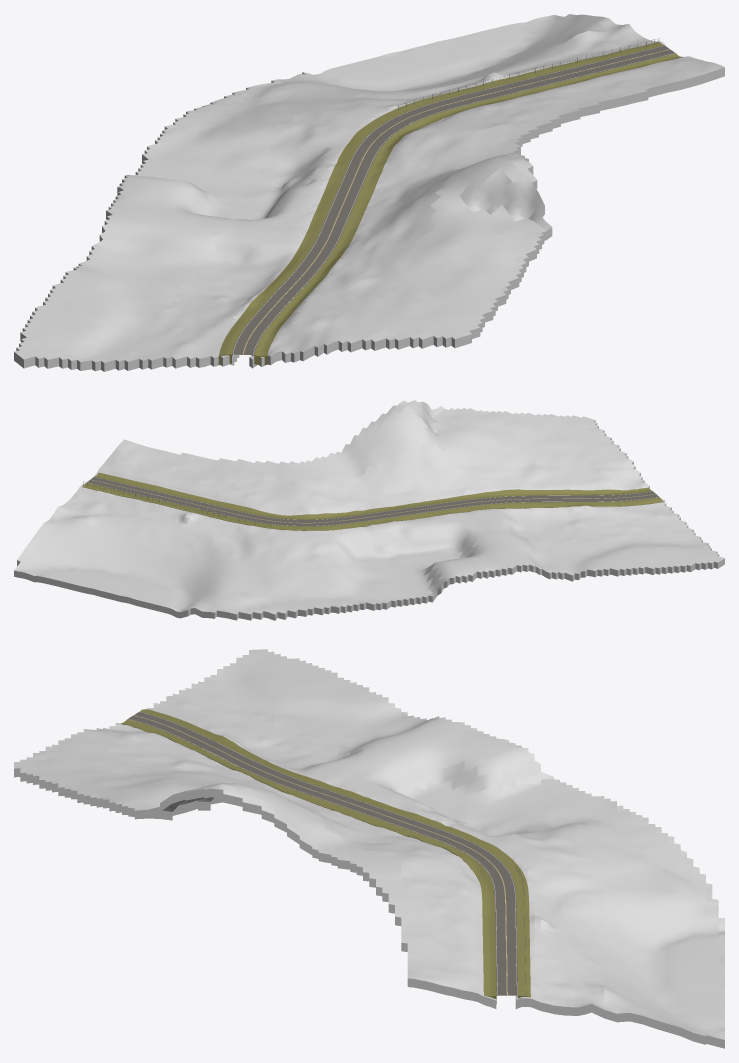
File: conz_55.glb
3 renders of one model, top to bottom at view 1: azimuth 30°, elevation 25°; view 2: azimuth 150°, elevation 25°; view 3: azimuth 270°, elevation 25°, orthographic. The views are drawn at different scales.
Visible parts, largest first — view 1: terrain55, road55, verge55L, verge55R, paint_white55, paint_yellow55; view 2: terrain55, road55, verge55L, verge55R, paint_yellow55, paint_white55; view 3: terrain55, road55, verge55L, verge55R, paint_white55, paint_yellow55.
Boxes of the visible parts, x1,y1,x2,y2 form: terrain55: (14, 14, 724, 371); road55: (232, 45, 675, 355); verge55L: (218, 42, 663, 364); verge55R: (254, 53, 682, 365); paint_white55: (233, 46, 673, 354); paint_yellow55: (242, 49, 670, 354); terrain55: (14, 400, 724, 620); road55: (87, 476, 658, 526); verge55L: (82, 482, 663, 530); verge55R: (94, 472, 651, 519); paint_yellow55: (90, 479, 655, 523); paint_white55: (91, 477, 658, 525); terrain55: (14, 649, 724, 1048); road55: (128, 711, 518, 995); verge55L: (140, 709, 530, 997); verge55R: (120, 719, 496, 1004); paint_white55: (128, 711, 517, 995); paint_yellow55: (133, 715, 507, 995).
Size of the model in its own units: 274 by 43.48 by 224.
